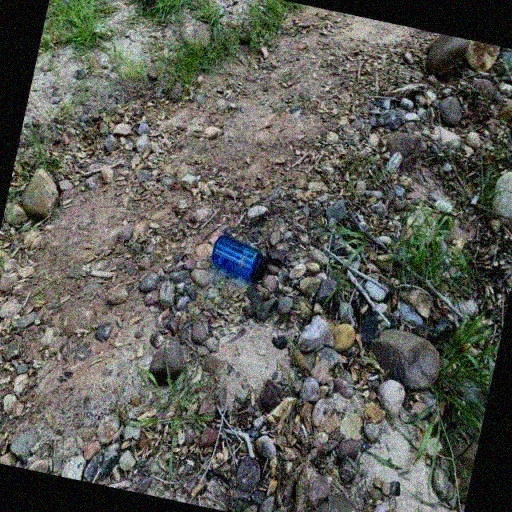bottle: (208, 233, 272, 282)
